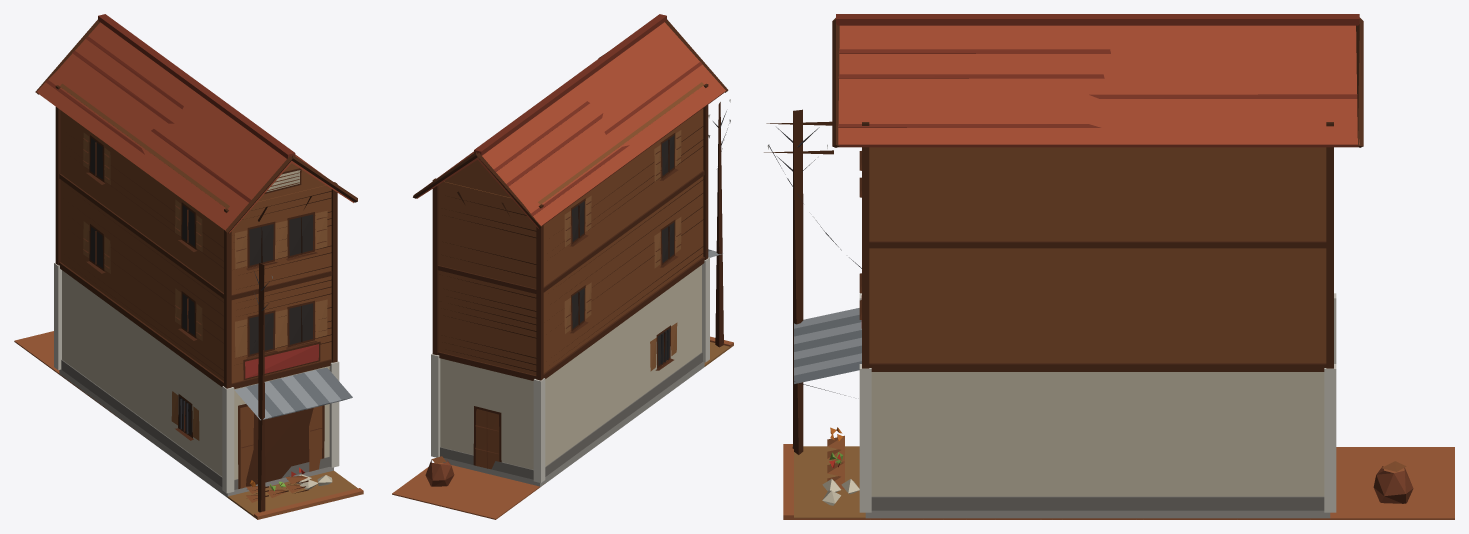
The model's file is bay2_left.glb.
3 renders of one model, left to right at view 1: azimuth 30°, elevation 25°; view 2: azimuth 150°, elevation 25°; view 3: azimuth 270°, elevation 25°, orthographic. The views are drawn at different scales.
Visible parts, largest first — view 1: body, windows; view 2: body, windows; view 3: body.
Part boxes in pixels (box(x1,y1,x2,y2)): body: box(14, 14, 363, 519); windows: box(90, 138, 313, 435); body: box(392, 14, 733, 519); windows: box(572, 135, 674, 365); body: box(764, 14, 1454, 519).
Bounding box in the file's own units: 5.02 × 12.23 × 16.4.
